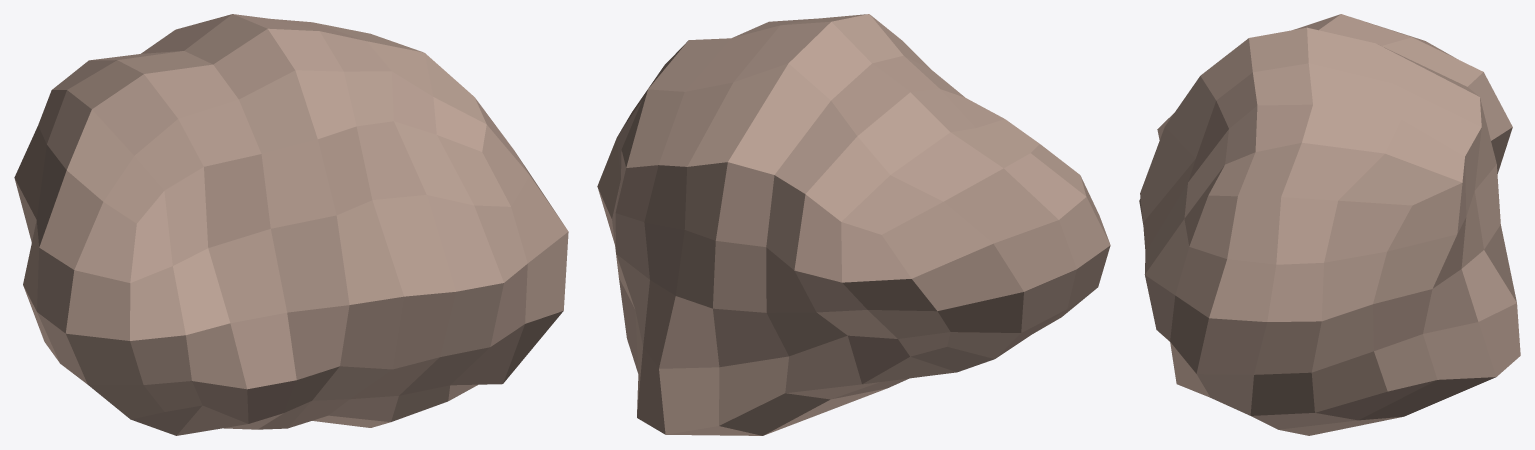
Rendered from Rock03.fbx.
3 renders of one model, left to right at view 1: azimuth 30°, elevation 25°; view 2: azimuth 150°, elevation 25°; view 3: azimuth 270°, elevation 25°, orthographic. The views are drawn at different scales.
Parts seen in each view (by area): view 1: Rock03; view 2: Rock03; view 3: Rock03.
Part boxes in pixels (left/top/right/bottom): Rock03: left=14, top=14, right=568, bottom=435; Rock03: left=597, top=14, right=1110, bottom=435; Rock03: left=1139, top=14, right=1520, bottom=435.
Bounding box in the file's own units: 291 × 238 × 225.
